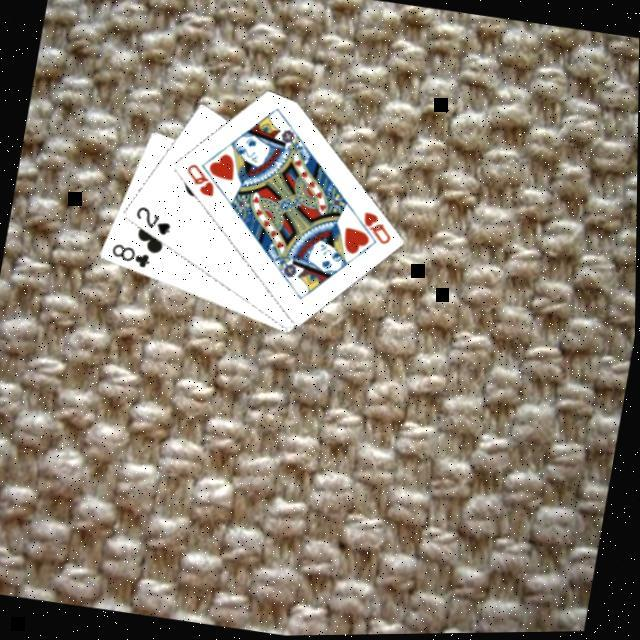2S: (128, 200, 175, 239)
8C: (105, 238, 154, 272)
QH: (345, 204, 397, 248), (179, 158, 220, 198)
